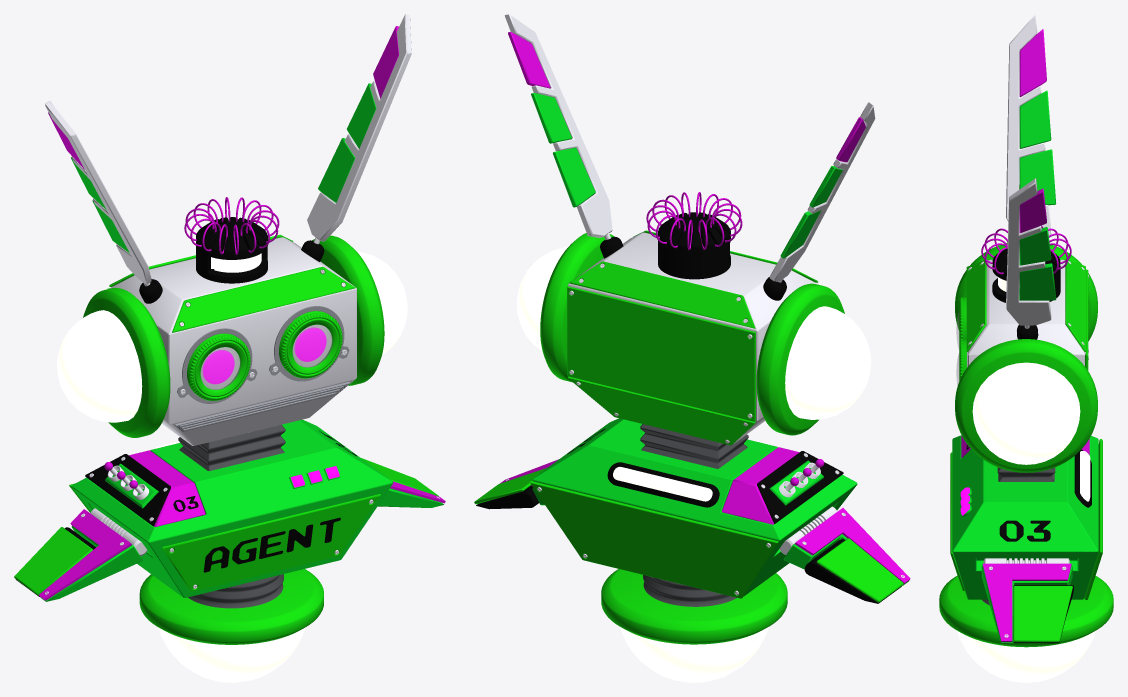
File: bee_bot7_green_3.glb
The picture shows the model from 3 angles, left to right: view 1: azimuth 30°, elevation 25°; view 2: azimuth 150°, elevation 25°; view 3: azimuth 270°, elevation 25°; orthographic projection. The views are drawn at different scales.
Parts seen in each view (by area): view 1: Cube.082; view 2: Cube.082; view 3: Cube.082.
Boxes of the visible parts, x1,y1,x2,y2 form: Cube.082: (14, 14, 445, 682); Cube.082: (474, 14, 910, 682); Cube.082: (939, 14, 1113, 682).
Size of the model in its own units: 0.6985 by 1.02 by 0.278.
